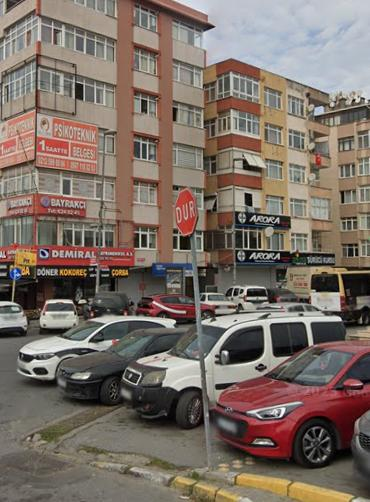stop: (173, 190, 198, 234)
